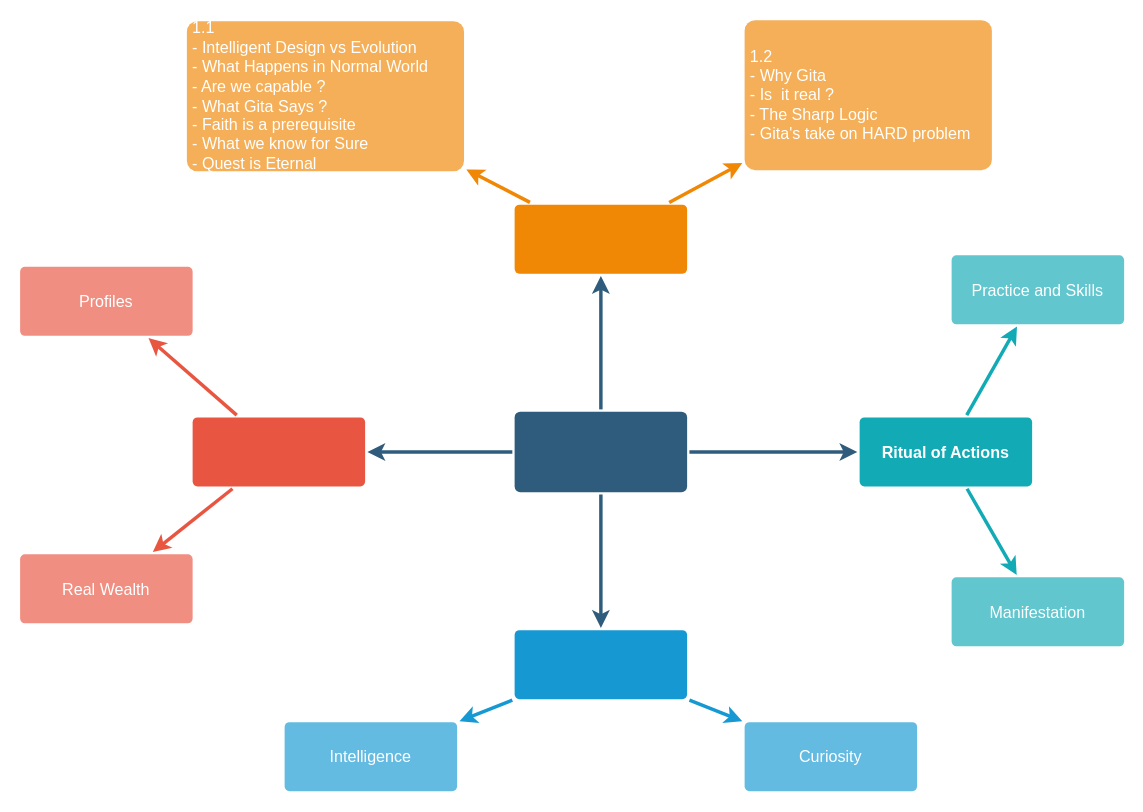
Some shapes in this 1143 by 812 pixel diagram are drawn without their labels. The shapes that lost their labels are listed below. From the top down, each one's centre as x and y in pixels, then its label:
At point 600,238: "Chapter -1 The Hypothesis Worth Knowing".
At point 278,451: "Interplay".
At point 600,451: "Getting Started".
At point 600,664: "Ritual of Thinking".
